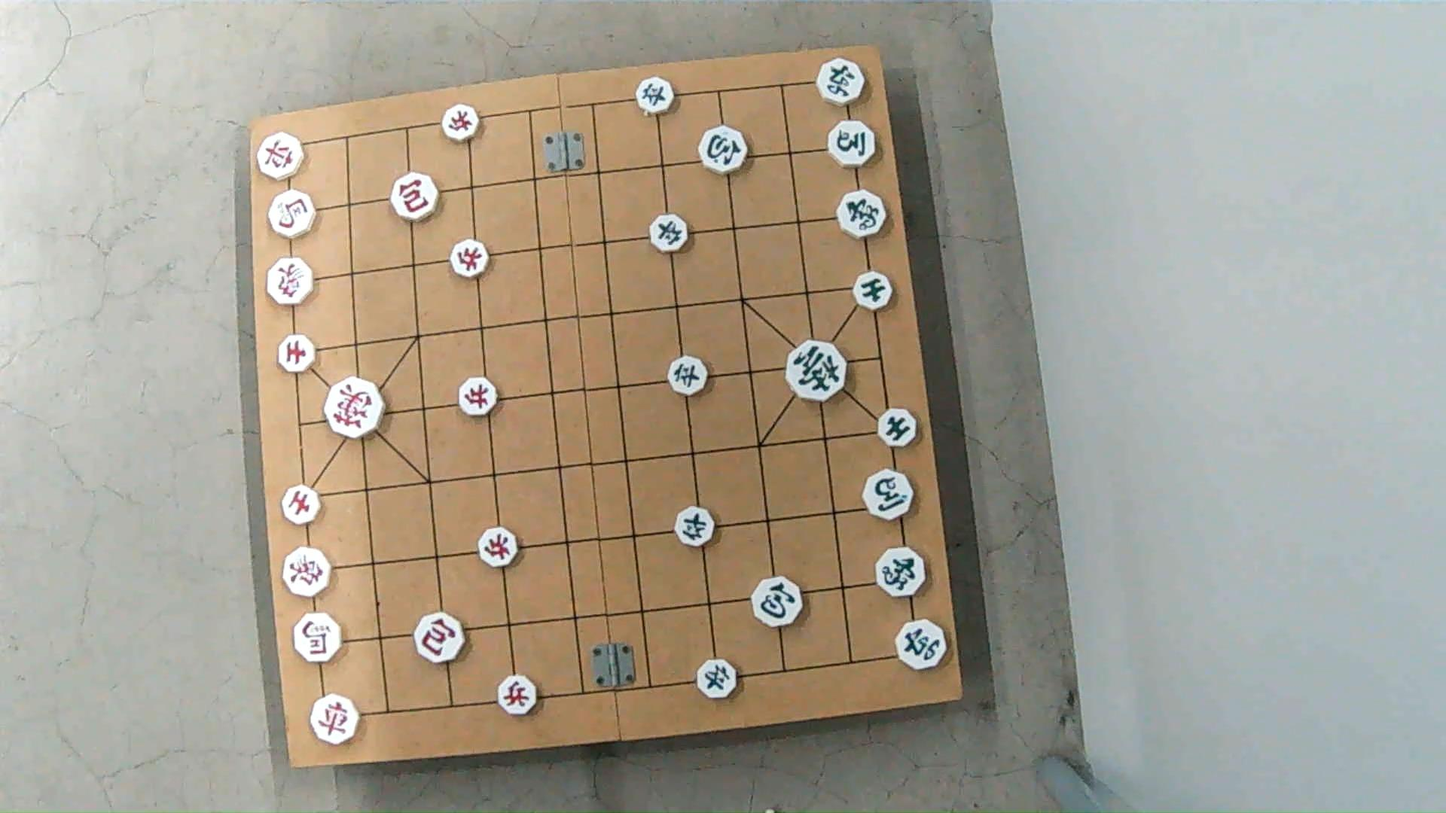cha_green: (896, 621, 950, 667), (814, 58, 866, 105)
cha_red: (310, 698, 360, 744), (257, 134, 307, 179)
jol_green: (675, 506, 718, 547), (648, 216, 692, 255), (697, 662, 740, 698), (670, 358, 712, 394), (637, 80, 679, 114)
jol_red: (494, 674, 538, 717), (441, 102, 485, 142), (449, 238, 490, 278), (477, 529, 519, 566), (458, 381, 500, 416)
ma_green: (860, 472, 915, 518), (825, 122, 878, 165)
ma_red: (268, 190, 316, 240), (290, 614, 341, 661)
po_green: (751, 575, 808, 628), (697, 126, 752, 172)
po_red: (413, 615, 468, 662), (390, 176, 439, 220)
sa_green: (878, 409, 919, 449), (849, 273, 895, 308)
sa_red: (276, 333, 319, 371), (281, 486, 324, 523)
sang_green: (874, 547, 929, 600), (836, 188, 889, 242)
sang_red: (281, 550, 334, 598), (267, 259, 317, 304)
wang_green: (785, 342, 847, 399)
wang_red: (325, 376, 388, 437)
